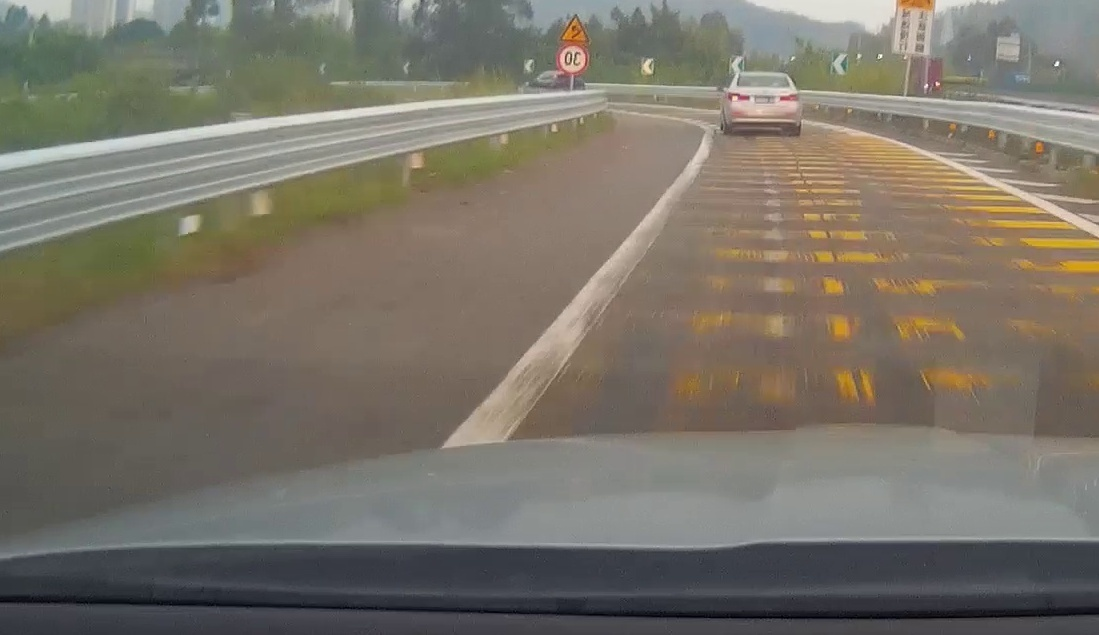L_light: (728, 92, 750, 101)
R_light: (780, 94, 798, 101)
T_light: (755, 76, 767, 79)
day-left: (727, 71, 800, 135)
